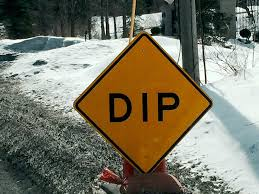dip: (74, 30, 217, 175)
